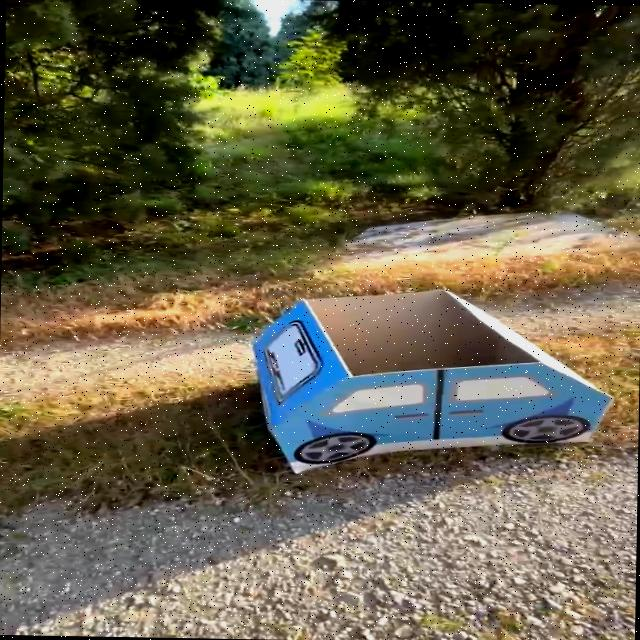blue_car: (203, 259, 623, 527)
